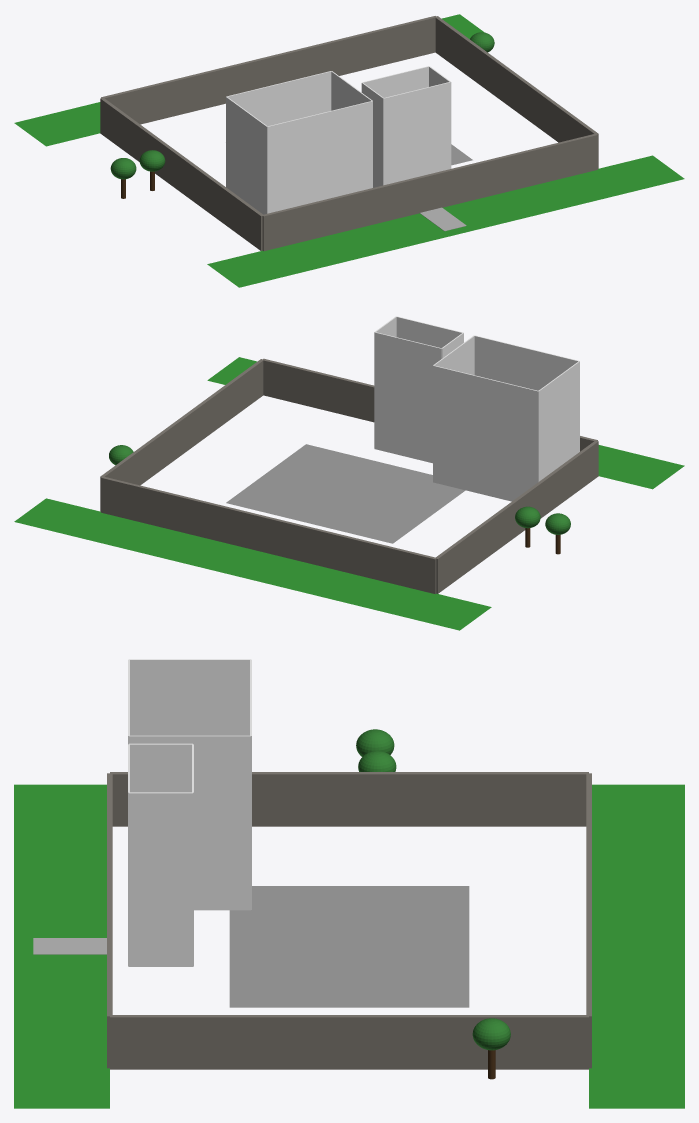
File: enhanced_boq_c552839b-4e3c-4cff-b7e4-3f33d100ed63.obj
3 renders of one model, top to bottom at view 1: azimuth 30°, elevation 25°; view 2: azimuth 150°, elevation 25°; view 3: azimuth 270°, elevation 25°, orthographic. The views are drawn at different scales.
Parts seen in each view (by area): view 1: FrontYard, ExteriorWall_South, ExteriorWall_North, SouthWall_Living_Room, SouthWall_Kitchen, ExteriorWall_West, ExteriorWall_East, WestWall_Living_Room, NorthWall_Living_Room, BackYard, NorthWall_Kitchen, WestWall_Kitchen (+4 smaller); view 2: BackYard, Foundation, ExteriorWall_North, NorthWall_Living_Room, NorthWall_Kitchen, ExteriorWall_West, ExteriorWall_East, ExteriorWall_South, WestWall_Living_Room, SouthWall_Living_Room, FrontYard, SouthWall_Kitchen (+1 smaller); view 3: BackYard, FrontYard, Foundation, ExteriorWall_East, ExteriorWall_West, EastWall_Kitchen, EastWall_Living_Room, WestWall_Living_Room, WestWall_Kitchen, ExteriorWall_South, ExteriorWall_North, Pathway (+3 smaller).
Boxes of the visible parts, box(x1,y1,x2,y2) form: FrontYard: box(207, 155, 684, 287); ExteriorWall_South: box(262, 134, 597, 251); ExteriorWall_North: box(101, 16, 436, 124); SouthWall_Living_Room: box(267, 101, 372, 213); SouthWall_Kitchen: box(383, 82, 450, 184); ExteriorWall_West: box(100, 97, 263, 250); ExteriorWall_East: box(435, 16, 598, 168); WestWall_Living_Room: box(226, 96, 267, 214); NorthWall_Living_Room: box(226, 71, 331, 126); BackYard: box(14, 14, 484, 146); NorthWall_Kitchen: box(362, 66, 428, 97); WestWall_Kitchen: box(361, 82, 383, 187); BackYard: box(14, 498, 491, 630); Foundation: box(226, 444, 465, 543); ExteriorWall_North: box(101, 476, 436, 593); NorthWall_Living_Room: box(433, 365, 538, 501); NorthWall_Kitchen: box(374, 332, 441, 463); ExteriorWall_West: box(436, 440, 598, 593); ExteriorWall_East: box(100, 359, 263, 511); ExteriorWall_South: box(262, 358, 597, 451); WestWall_Living_Room: box(538, 361, 579, 481); SouthWall_Living_Room: box(474, 335, 579, 390); FrontYard: box(207, 357, 684, 489); SouthWall_Kitchen: box(396, 316, 463, 347); BackYard: box(589, 784, 684, 1108); FrontYard: box(14, 784, 109, 1108); Foundation: box(229, 886, 469, 1007); ExteriorWall_East: box(110, 1015, 588, 1069); ExteriorWall_West: box(110, 772, 588, 826); EastWall_Kitchen: box(129, 792, 192, 966); EastWall_Living_Room: box(129, 735, 250, 910); WestWall_Living_Room: box(129, 659, 250, 735); WestWall_Kitchen: box(129, 743, 192, 792); ExteriorWall_South: box(107, 773, 112, 1068); ExteriorWall_North: box(586, 773, 591, 1068); Pathway: box(33, 938, 106, 954).
Size of the model in its own units: 40.5 by 10 by 35.
